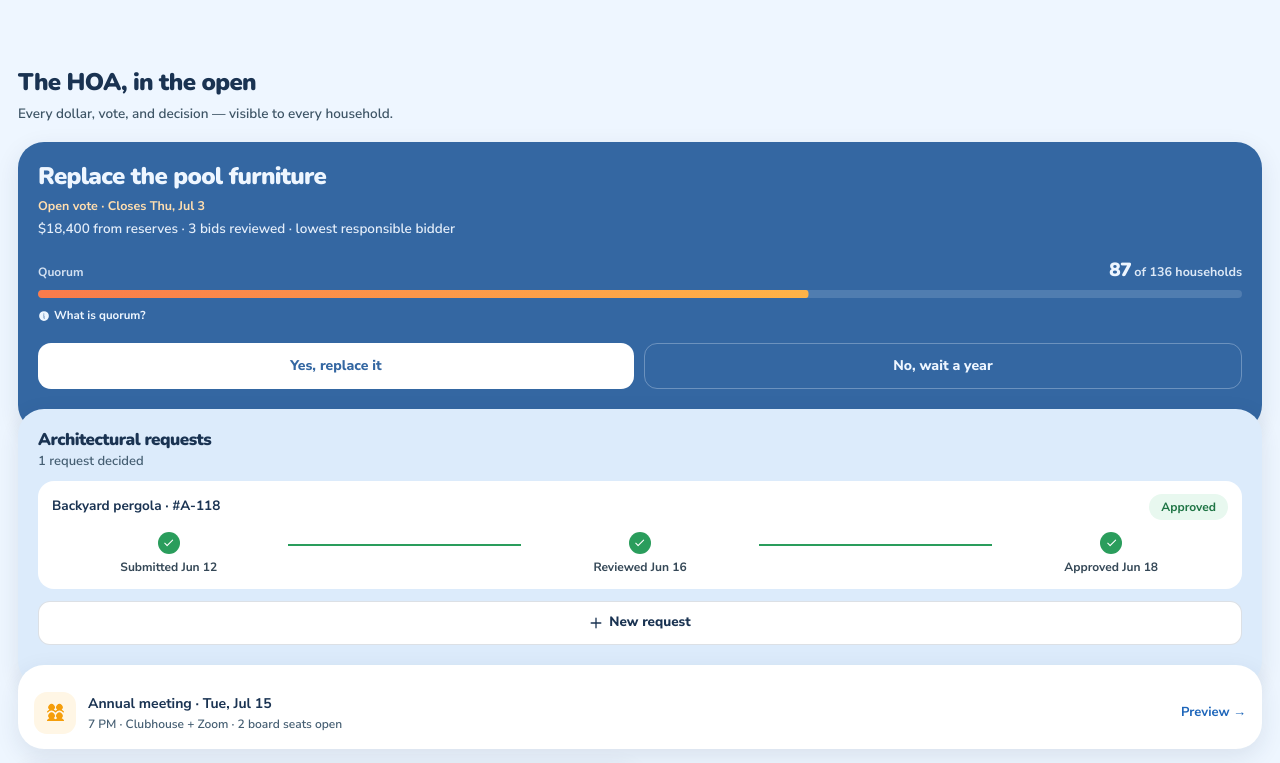
Test: voting yes shows receipt and tally
Click the button "Yes, replace it" at point(336, 366), box left=38, top=343, right=634, bottom=389
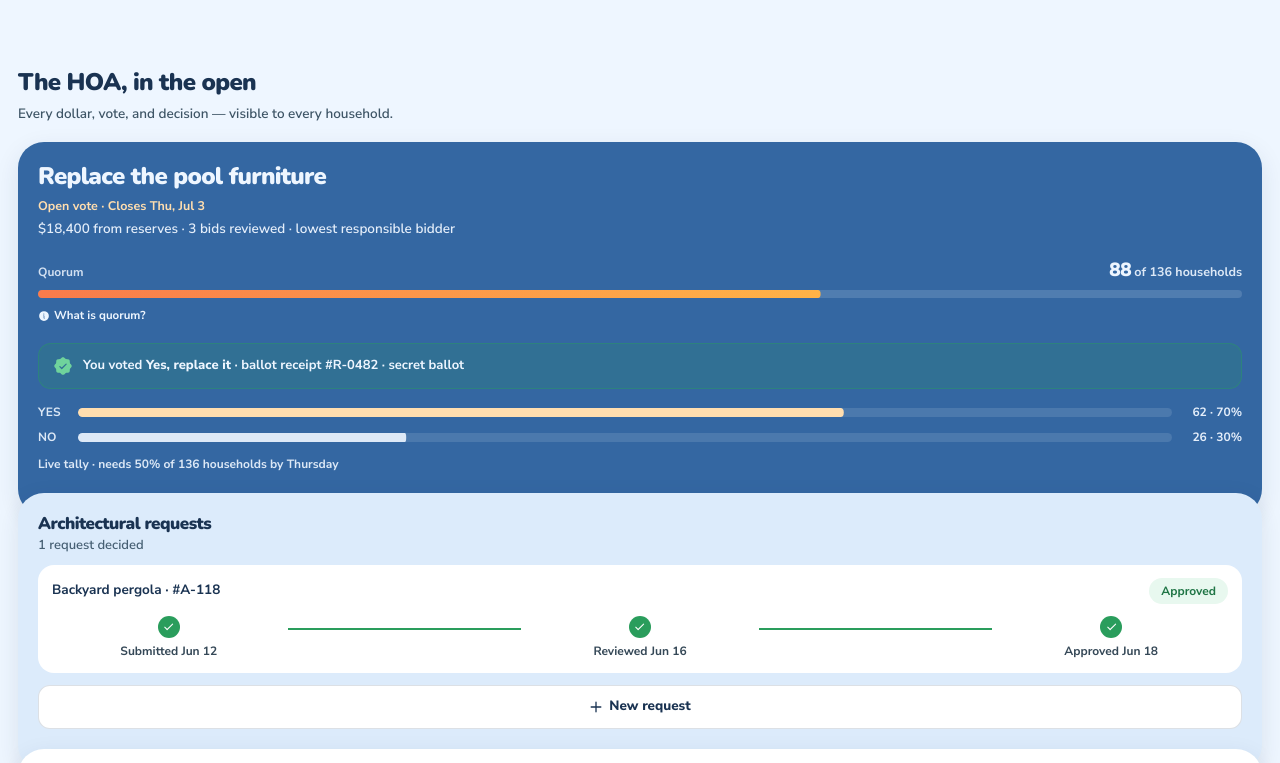
Result: the text "ballot receipt #R-0482" is shown at left=83, top=356, right=464, bottom=376
Result: the text "62 · 70%" is shown at left=1192, top=404, right=1242, bottom=420
